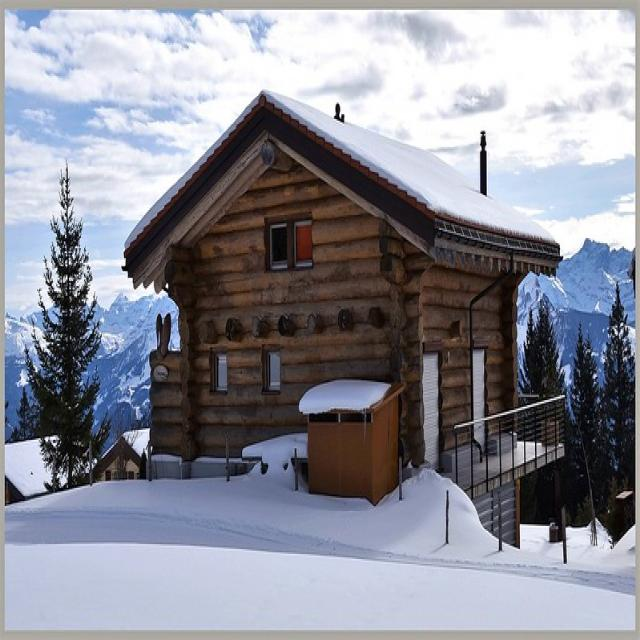Normal_building: (119, 80, 564, 542)
